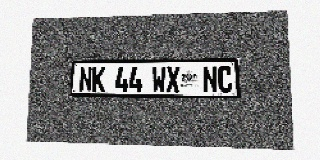4: (115, 67, 129, 92), (129, 67, 142, 92)
C: (217, 66, 233, 93)
K: (92, 67, 105, 92)
N: (203, 66, 217, 93), (79, 67, 92, 92)
W: (152, 66, 166, 92)
X: (166, 66, 180, 92)
